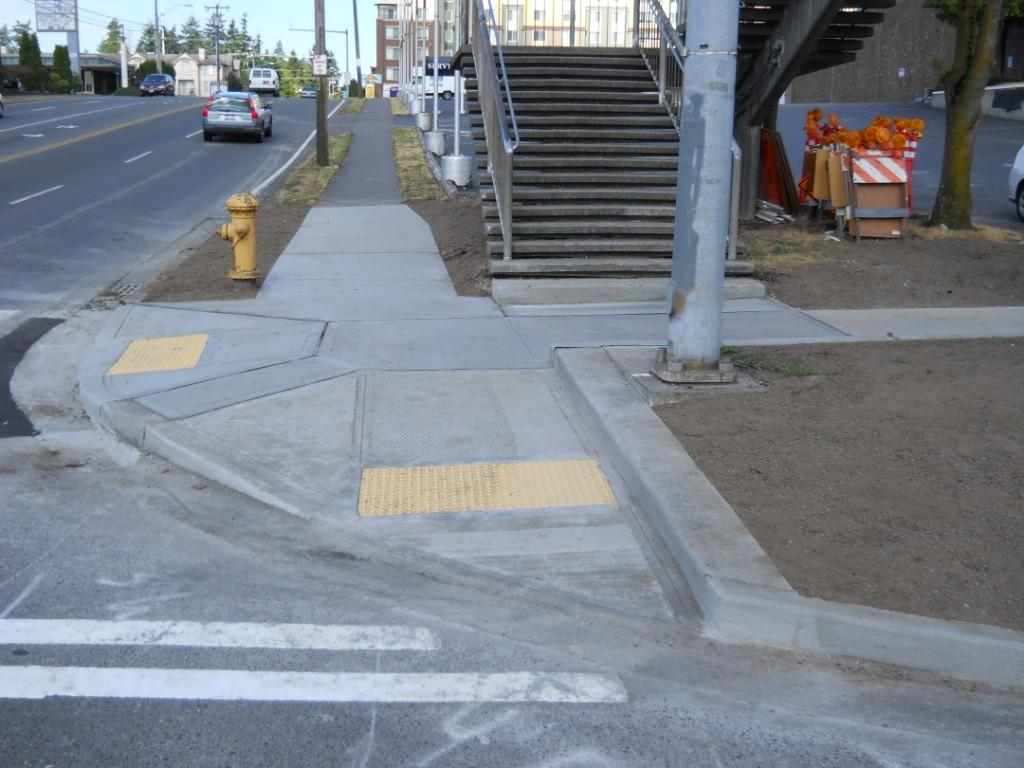ramp: (282, 378, 640, 614), (53, 255, 225, 455)
